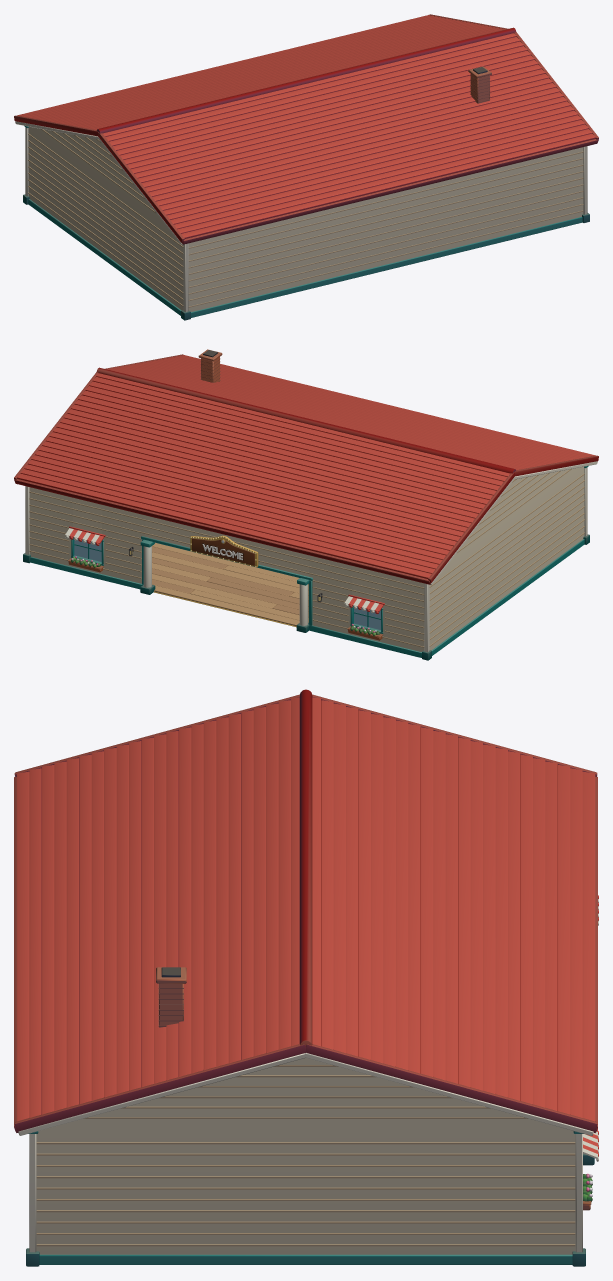
Rendered from LobbyHall.fbx.
3 renders of one model, top to bottom at view 1: azimuth 30°, elevation 25°; view 2: azimuth 150°, elevation 25°; view 3: azimuth 270°, elevation 25°, orthographic. The views are drawn at different scales.
Parts seen in each view (by area): view 1: SM_Bld_LobbyHall_Roof, SM_Bld_LobbyHall_Walls, SM_Bld_LobbyHall_Trim; view 2: SM_Bld_LobbyHall_Roof, SM_Bld_LobbyHall_Walls, SM_Bld_LobbyHall_Trim, SM_Bld_LobbyHall_Interior, SM_Bld_LobbyHall_Sign, SM_Bld_LobbyHall_Awning, SM_Bld_LobbyHall_Glass, SM_Bld_LobbyHall_Flowers; view 3: SM_Bld_LobbyHall_Roof, SM_Bld_LobbyHall_Walls, SM_Bld_LobbyHall_Trim.
Part boxes in pixels (bbox=[...]): SM_Bld_LobbyHall_Roof: bbox=[14, 14, 598, 244]; SM_Bld_LobbyHall_Walls: bbox=[28, 126, 583, 311]; SM_Bld_LobbyHall_Trim: bbox=[15, 121, 589, 320]; SM_Bld_LobbyHall_Roof: bbox=[14, 349, 598, 584]; SM_Bld_LobbyHall_Walls: bbox=[29, 466, 584, 651]; SM_Bld_LobbyHall_Trim: bbox=[23, 461, 597, 660]; SM_Bld_LobbyHall_Interior: bbox=[152, 542, 308, 626]; SM_Bld_LobbyHall_Sign: bbox=[190, 535, 258, 567]; SM_Bld_LobbyHall_Awning: bbox=[65, 526, 384, 614]; SM_Bld_LobbyHall_Glass: bbox=[74, 539, 380, 629]; SM_Bld_LobbyHall_Flowers: bbox=[68, 556, 382, 640]; SM_Bld_LobbyHall_Roof: bbox=[14, 689, 597, 1132]; SM_Bld_LobbyHall_Walls: bbox=[36, 1058, 575, 1254]; SM_Bld_LobbyHall_Trim: bbox=[18, 1053, 594, 1266].
Bounding box in the file's own units: 86.6 × 27.35 × 60.84.
